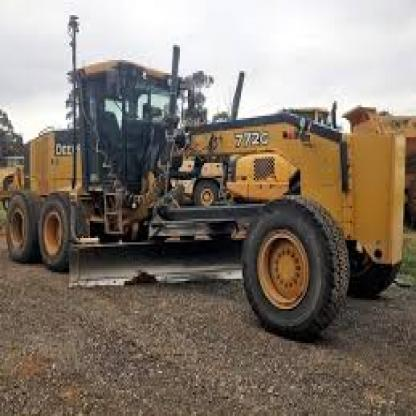bull_dozer/loader/grader: (11, 37, 410, 336)
